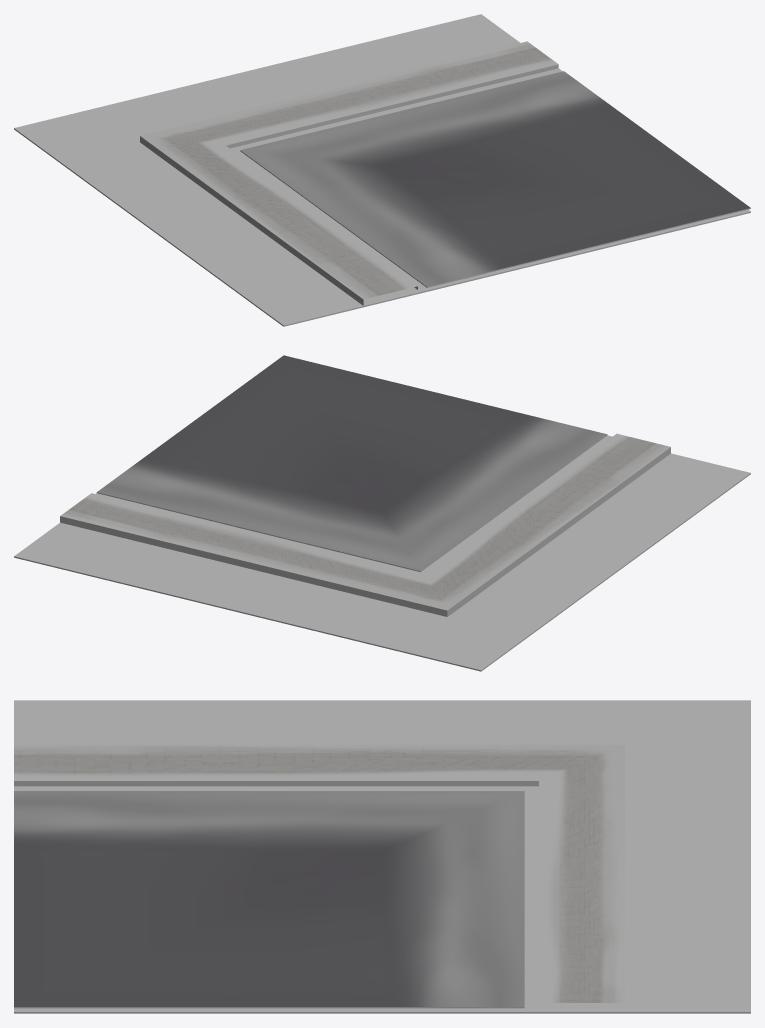
File: Carpark_Cap.fbx
3 views of the same model, one above another, from view 1: azimuth 30°, elevation 25°; view 2: azimuth 150°, elevation 25°; view 3: azimuth 270°, elevation 25° (orthographic). The views are drawn at different scales.
Visible parts, largest first — view 1: Road_10X52, Road_10X31; view 2: Road_10X52, Road_10X31; view 3: Road_10X52, Road_10X31.
Boxes of the visible parts, box(x1,y1,x2,y2) form: Road_10X52: box(140, 41, 750, 305); Road_10X31: box(14, 14, 750, 326); Road_10X52: box(60, 355, 670, 616); Road_10X31: box(14, 453, 750, 671); Road_10X52: box(14, 744, 624, 1008); Road_10X31: box(14, 700, 750, 1013).
Bounding box in the file's own units: 1000 × 15.99 × 1000.
